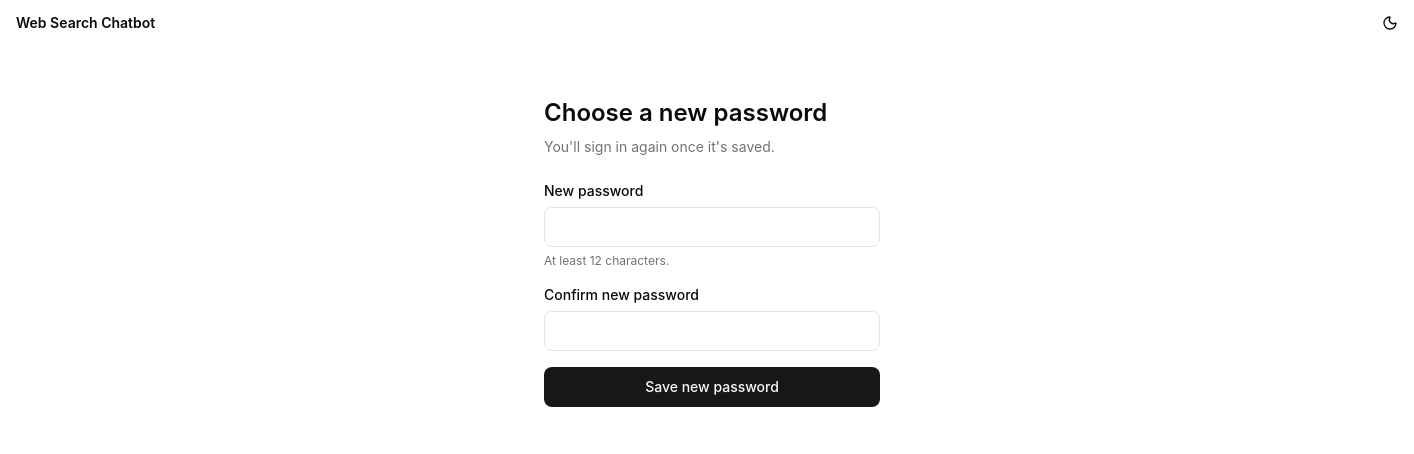
Test: reset password › requires the confirmation to match
Check: the heading "Choose a new password" is shown, box [544,98,827,127]
Type "an-entirely-new-passphrase" into the password field labelled "New password". click: (712, 227)
box: [544,207,880,247]
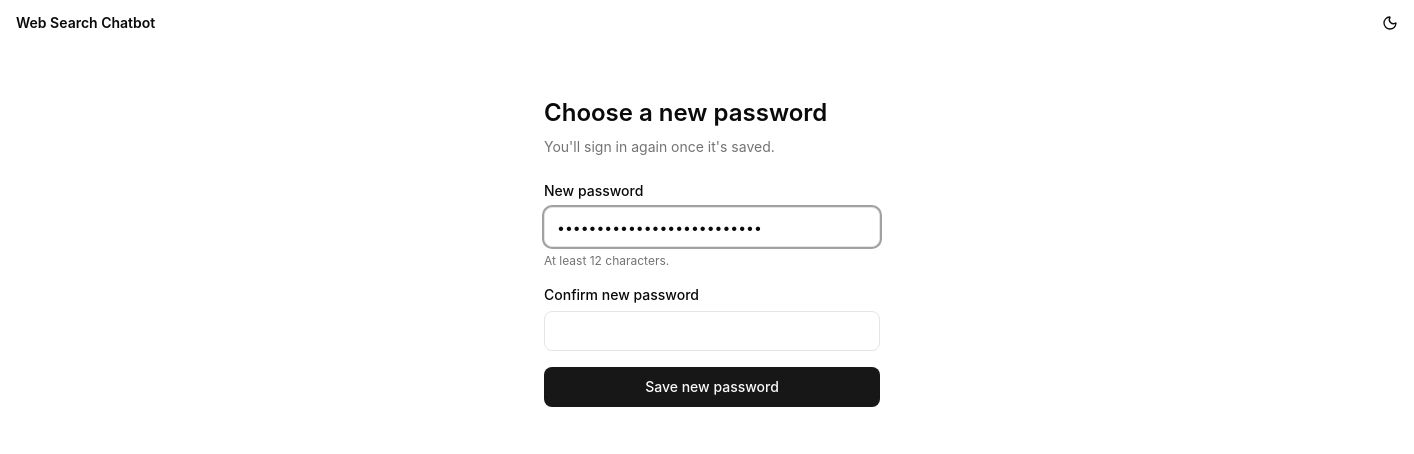
Type "something-else-entirely" into the password field labelled "Confirm new password". click: (712, 331)
box: [544,311,880,351]
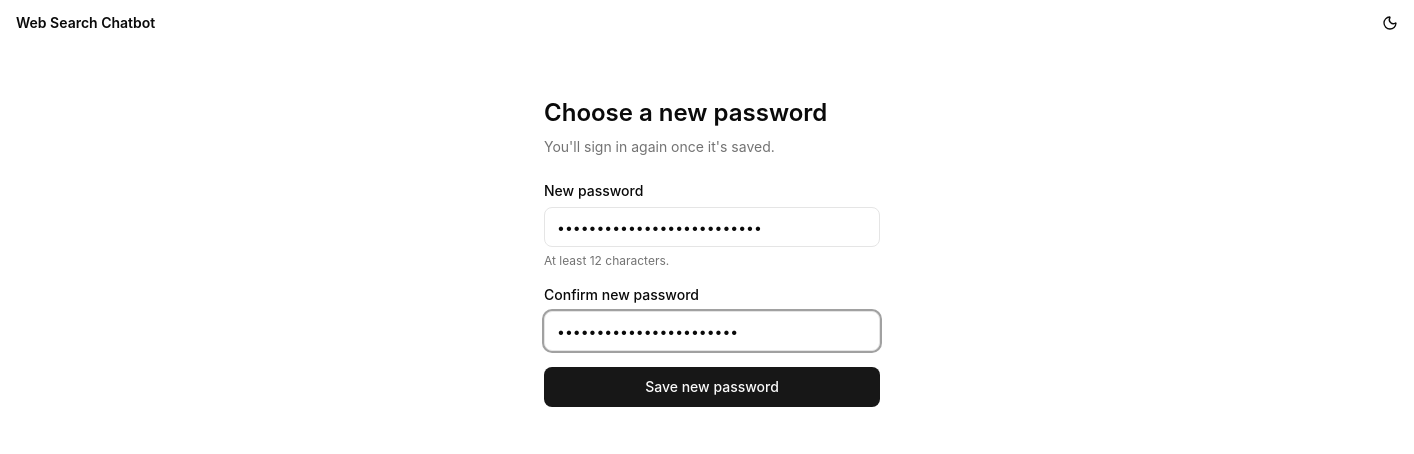
Click the button "Save new password". click: (712, 387)
box: [544,367,880,407]
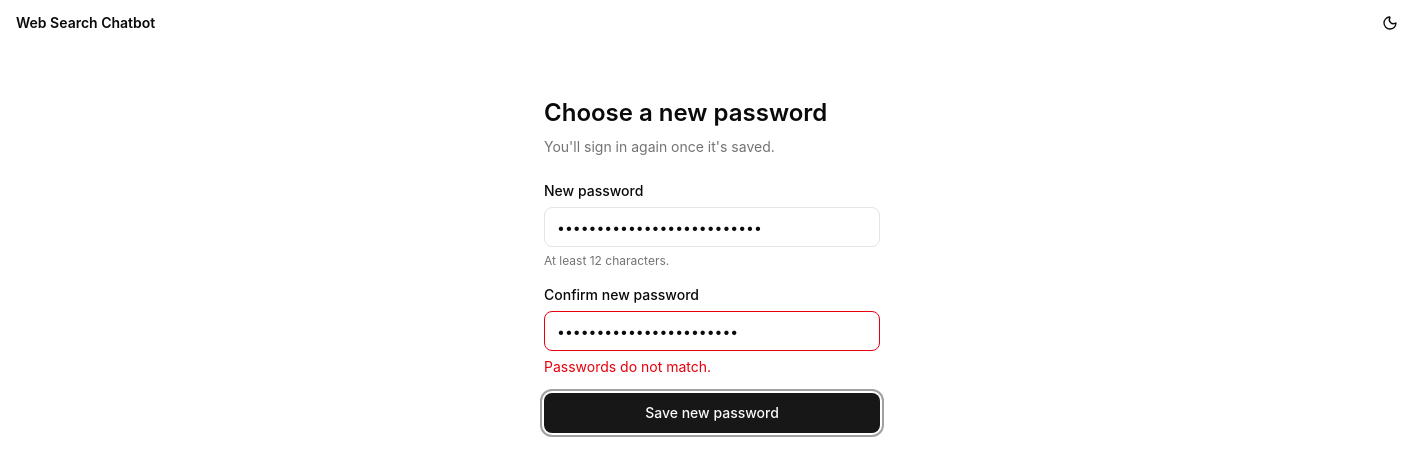
Check: the text "Passwords do not match." is shown, box [544,358,711,375]
